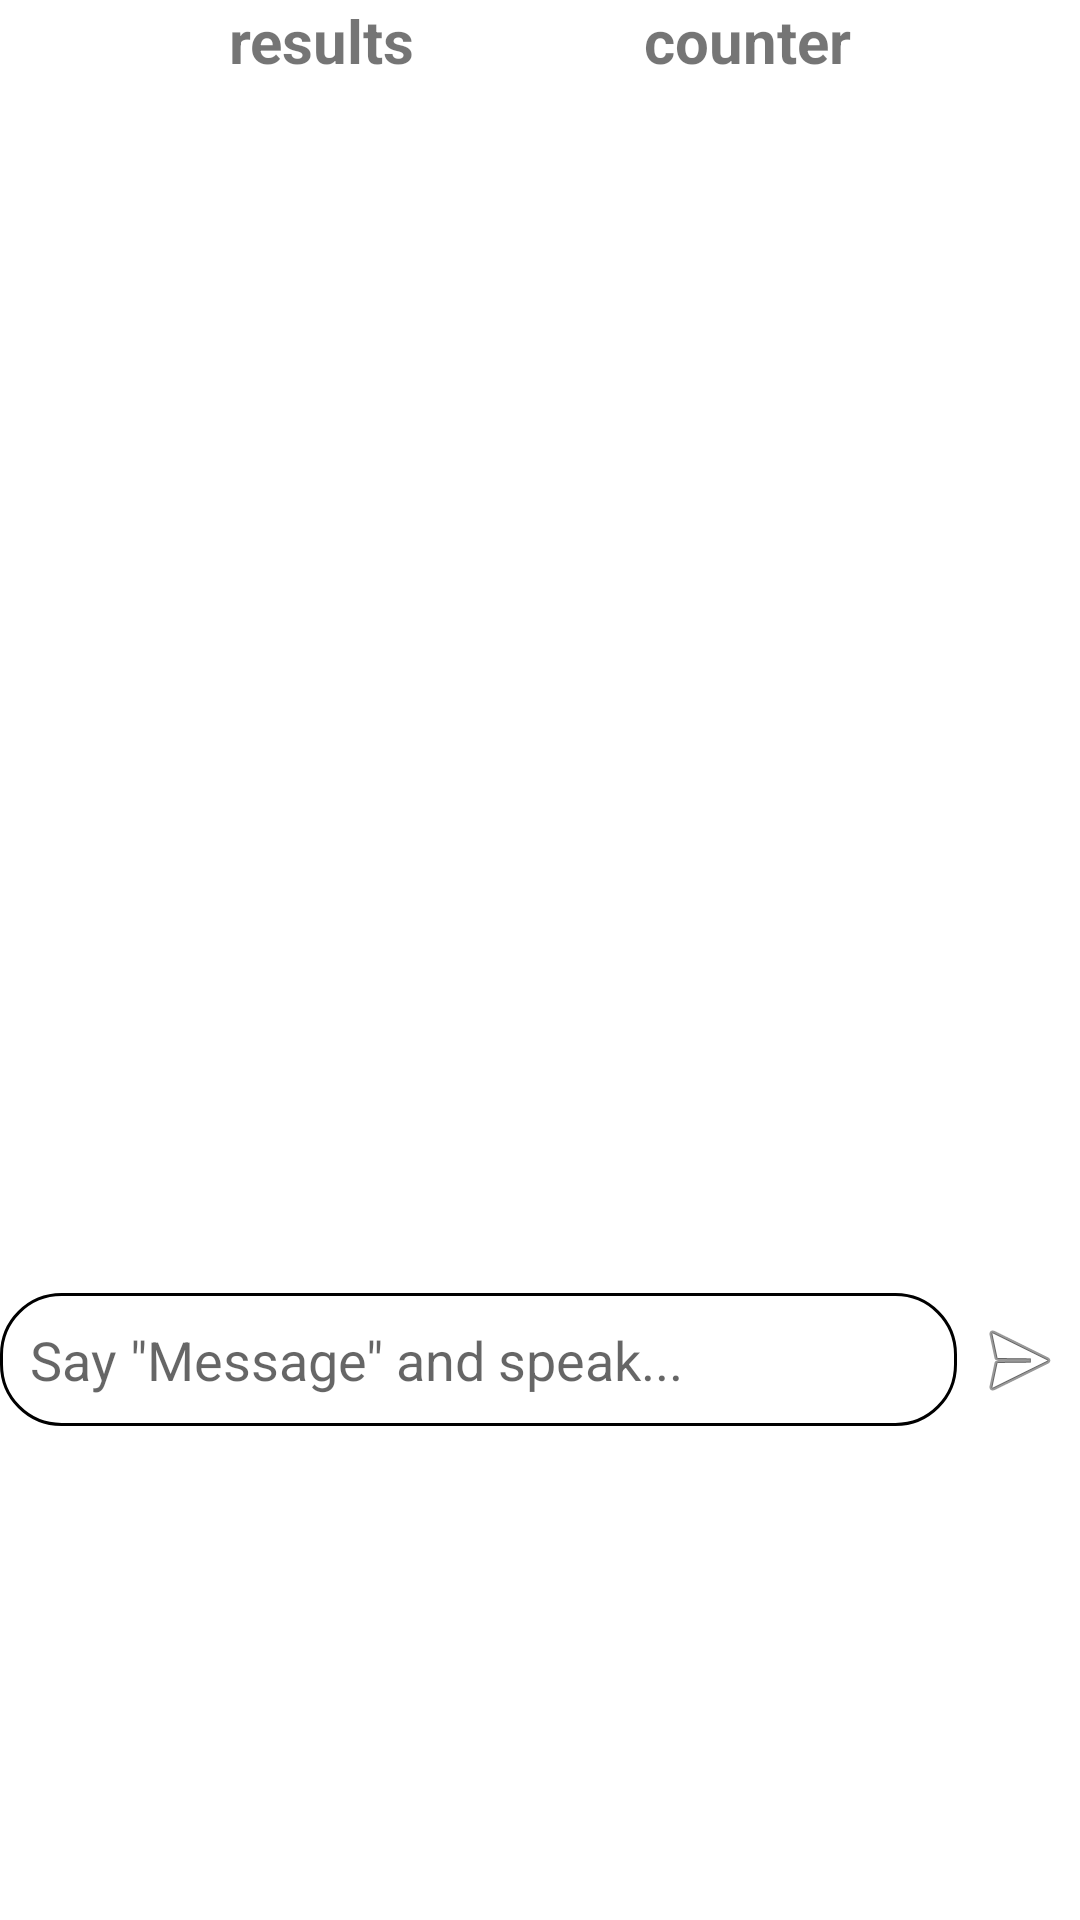

Where icons sit on this 1080 x 1920 app screen, as (x1, y1, x2, y2):
send: (989, 1330, 1051, 1391)
